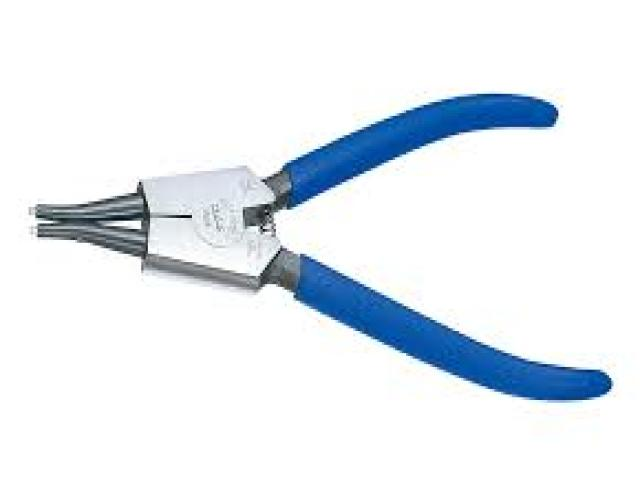Needle-nose pliers: (35, 98, 611, 399)
